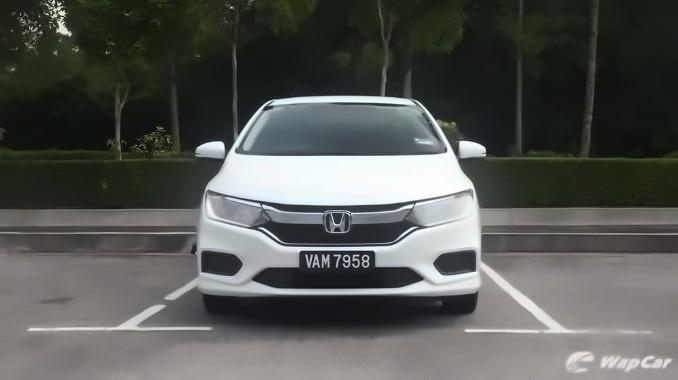Car hood: (203, 152, 475, 210)
Front bumper: (192, 218, 483, 300)
Headlight - -L-: (401, 189, 480, 230)
Headlight - -R-: (204, 187, 273, 229)
Side mirror - -L-: (453, 137, 488, 164)
Side mirror - -R-: (191, 138, 228, 162)
